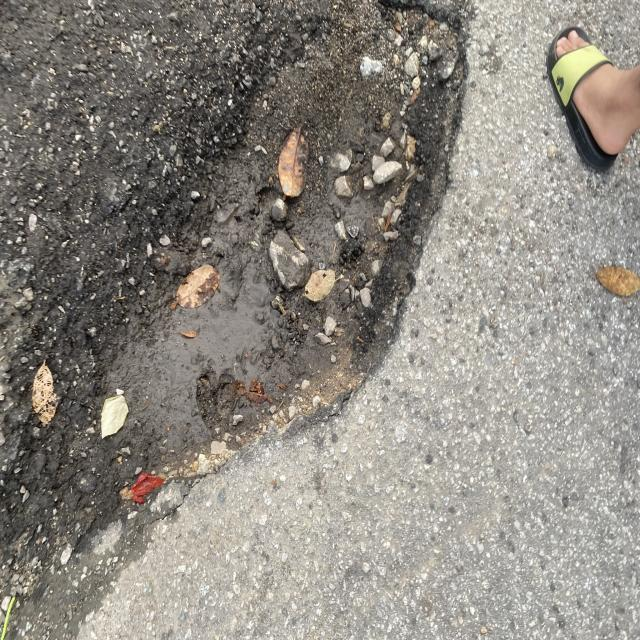Pothole: (74, 18, 494, 459)
